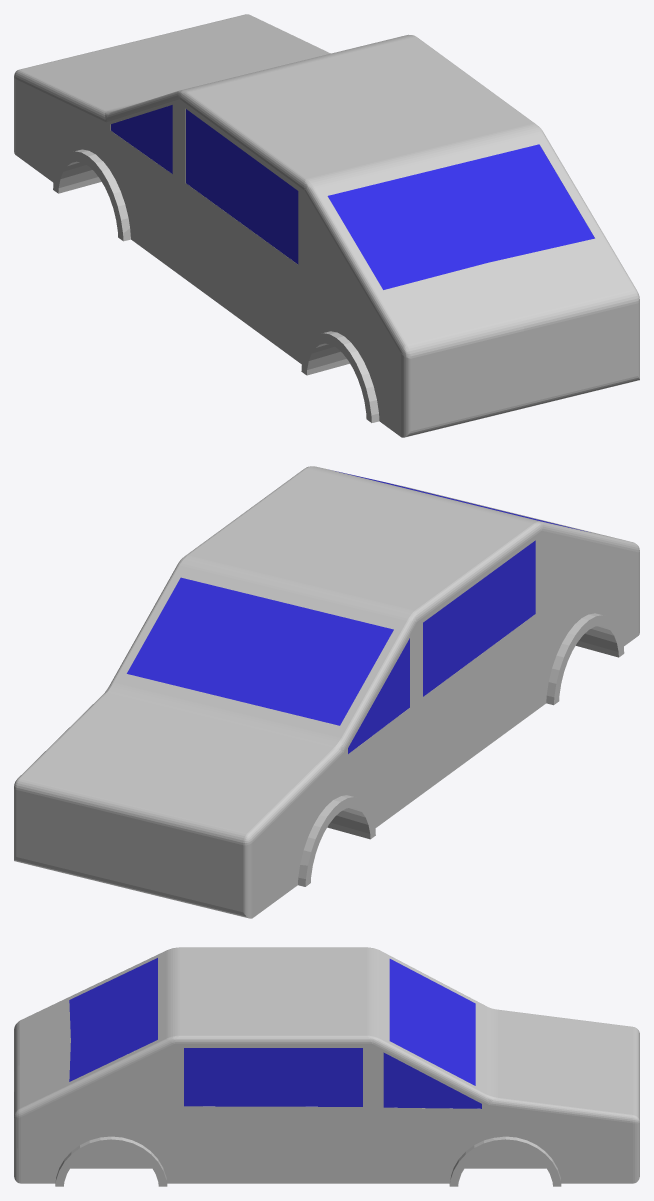
Rendered from car.glb.
3 renders of one model, top to bottom at view 1: azimuth 30°, elevation 25°; view 2: azimuth 150°, elevation 25°; view 3: azimuth 270°, elevation 25°, orthographic. The views are drawn at different scales.
Parts seen in each view (by area): view 1: car body, Cube.003, Cube.004, Cube.002; view 2: car body, Cube.001, Cube.004, Cube.002; view 3: car body, Cube.004, Cube.003, Cube.001, Cube.002.
Boxes of the visible parts, x1,y1,x2,y2 form: car body: (14, 14, 639, 437); Cube.003: (328, 144, 594, 289); Cube.004: (186, 109, 298, 264); Cube.002: (111, 105, 172, 173); car body: (14, 466, 639, 918); Cube.001: (127, 577, 393, 725); Cube.004: (423, 540, 535, 696); Cube.002: (348, 638, 409, 753); car body: (14, 947, 639, 1186); Cube.004: (184, 1048, 362, 1106); Cube.003: (69, 958, 157, 1081); Cube.001: (389, 959, 475, 1085); Cube.002: (383, 1052, 481, 1108).
Size of the model in its own units: 1.11 by 0.7718 by 3.
2 materials, 1 textured.
